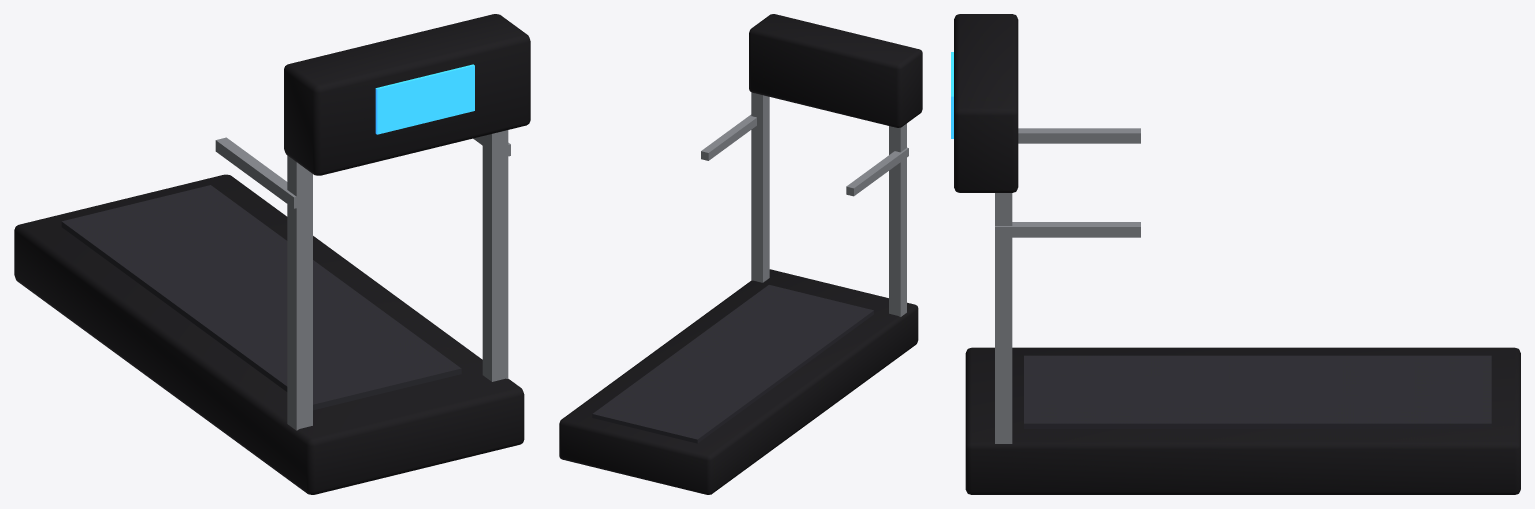
Rendered from fur_treadmill.glb.
3 renders of one model, left to right at view 1: azimuth 30°, elevation 25°; view 2: azimuth 150°, elevation 25°; view 3: azimuth 270°, elevation 25°, orthographic. The views are drawn at different scales.
Visible parts, largest first — view 1: FUR_treadmill; view 2: FUR_treadmill; view 3: FUR_treadmill.
Part boxes in pixels (x1,y1,x2,y2): FUR_treadmill: [14, 14, 530, 494]; FUR_treadmill: [559, 14, 922, 494]; FUR_treadmill: [951, 14, 1520, 494].
Bounding box in the file's own units: 0.8 × 1.46 × 1.95.
3 materials, 1 textured.
